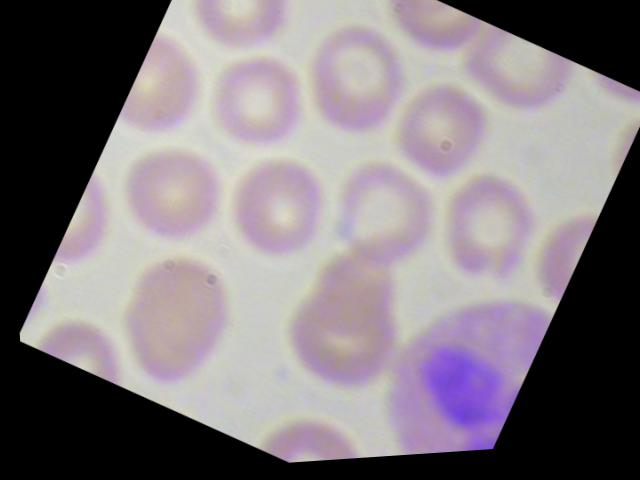Red Blood Cells: (91, 234, 259, 414), (281, 10, 428, 157), (205, 139, 352, 285), (99, 118, 246, 264), (416, 160, 559, 308), (311, 149, 453, 297), (371, 68, 507, 204), (186, 38, 322, 173), (442, 20, 584, 147), (20, 292, 151, 397), (359, 0, 490, 84), (175, 0, 310, 74), (243, 395, 374, 467)
White Blood Cells: (328, 258, 557, 462)
